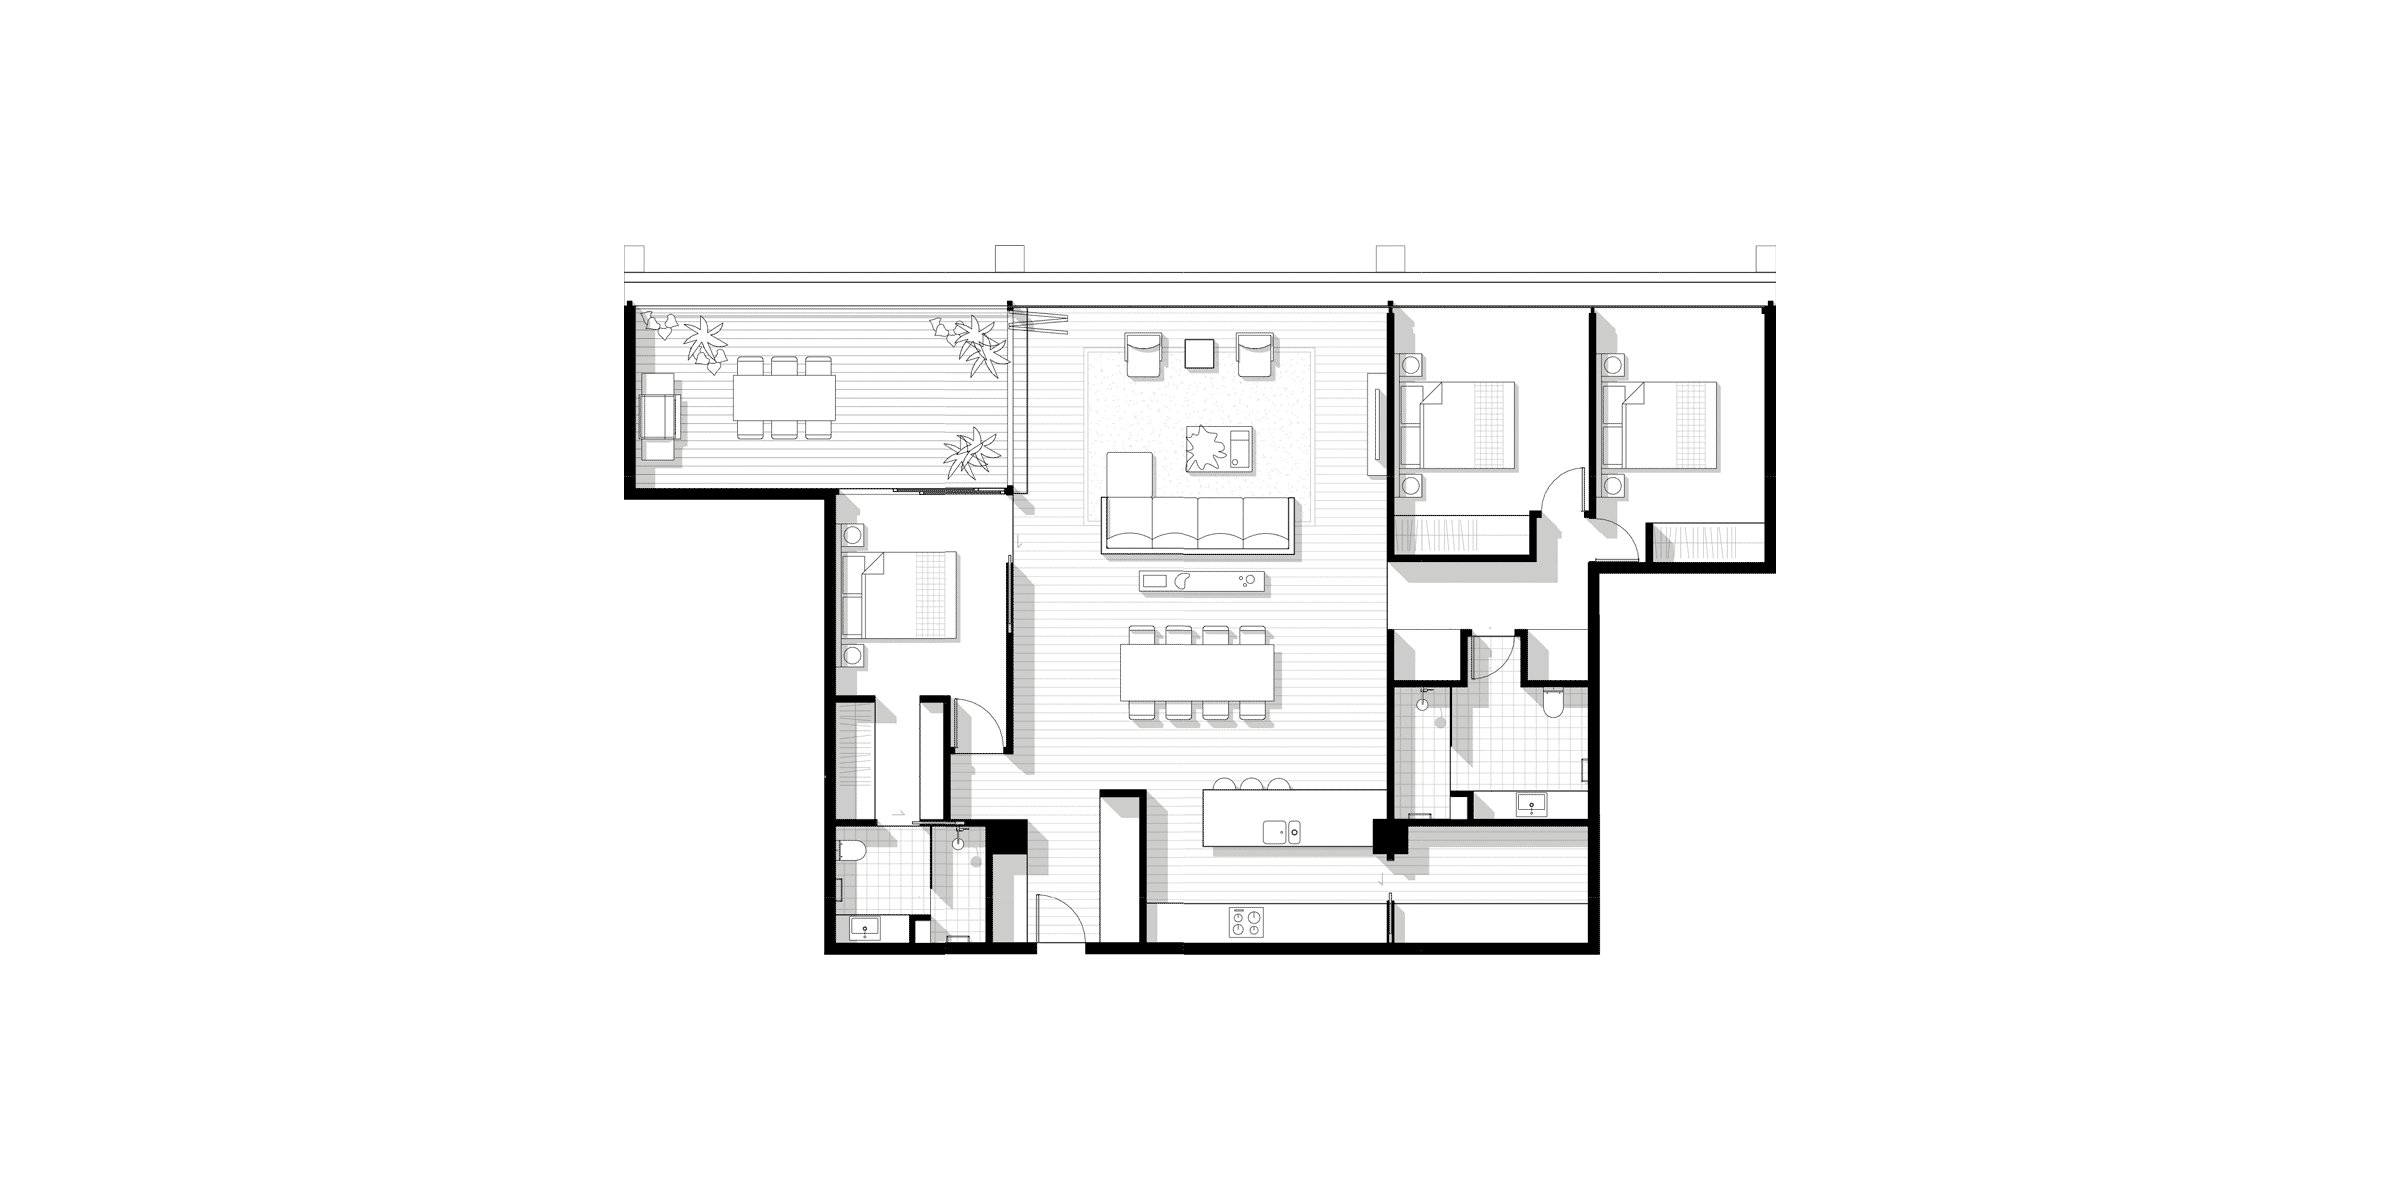balcony: (621, 294, 1030, 499)
room: (1003, 303, 1387, 947), (1388, 298, 1590, 553), (830, 488, 1016, 759), (1593, 298, 1771, 572), (1387, 631, 1587, 830), (825, 825, 987, 941)
